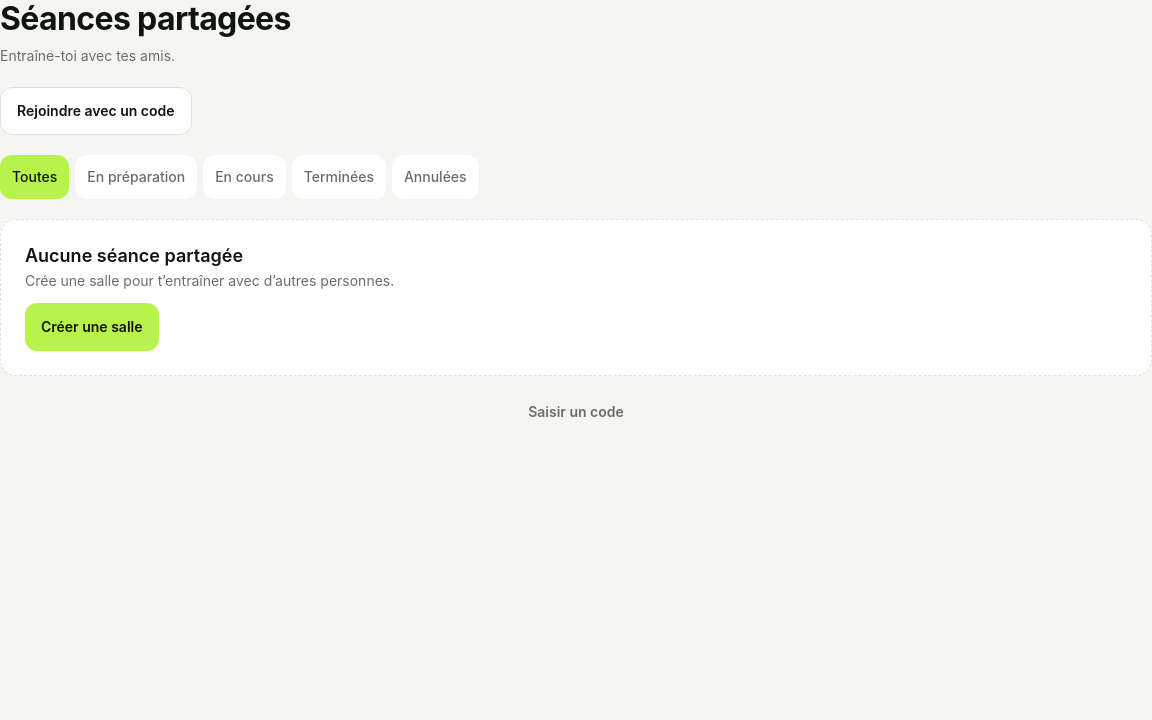
it: SharedWorkoutsPage › accepte le collage d’un code formaté
The width and height of the screenshot is (1152, 720).
Click the button "Rejoindre avec un code" at point(96, 111), box [0,87,192,135]
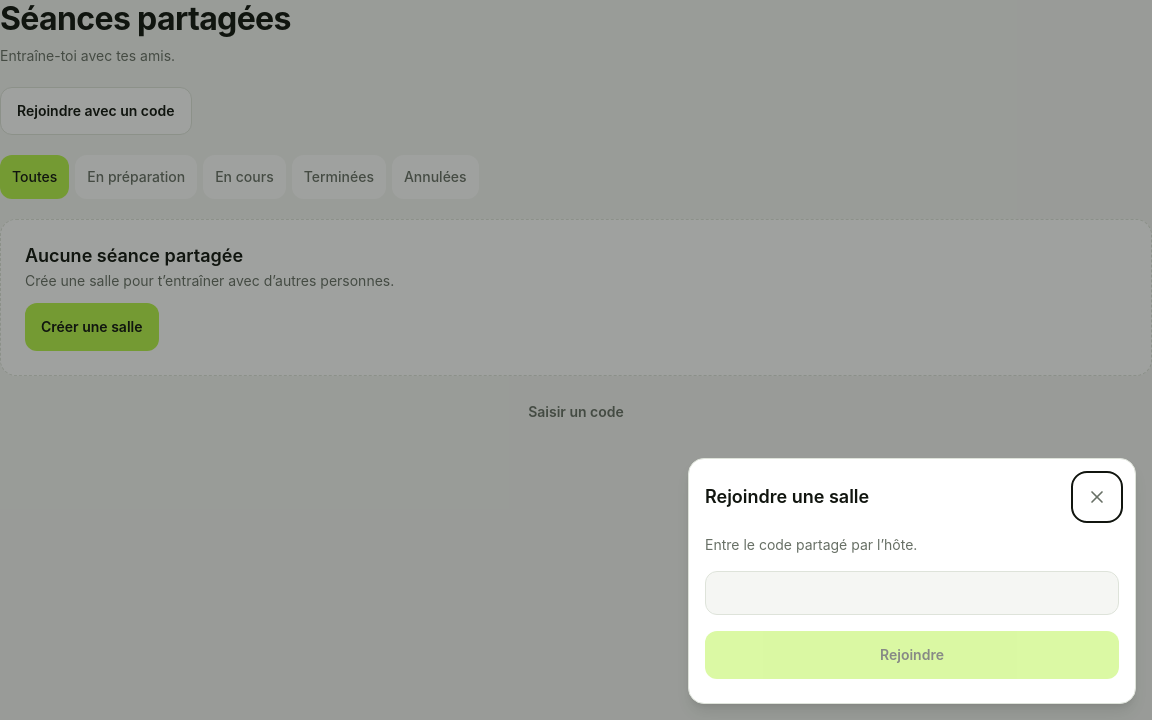
Click the field named "code d’accès" at point(912, 593), box [705,571,1119,615]
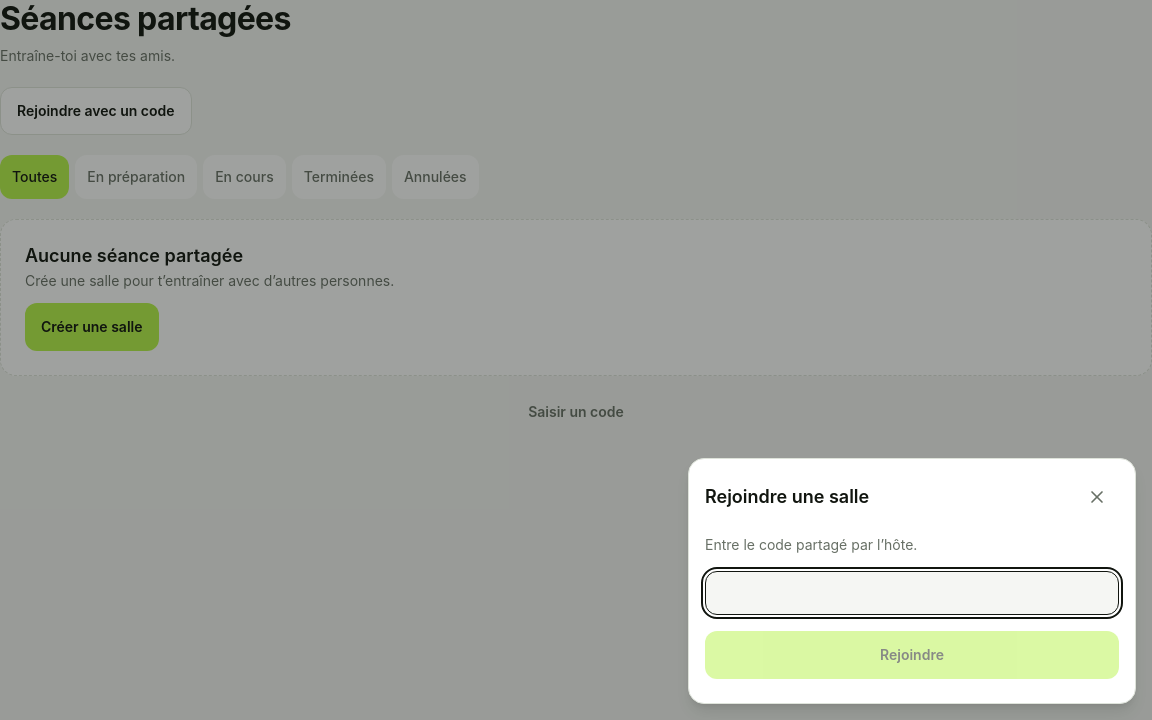
Type keys "K7M-4PX"
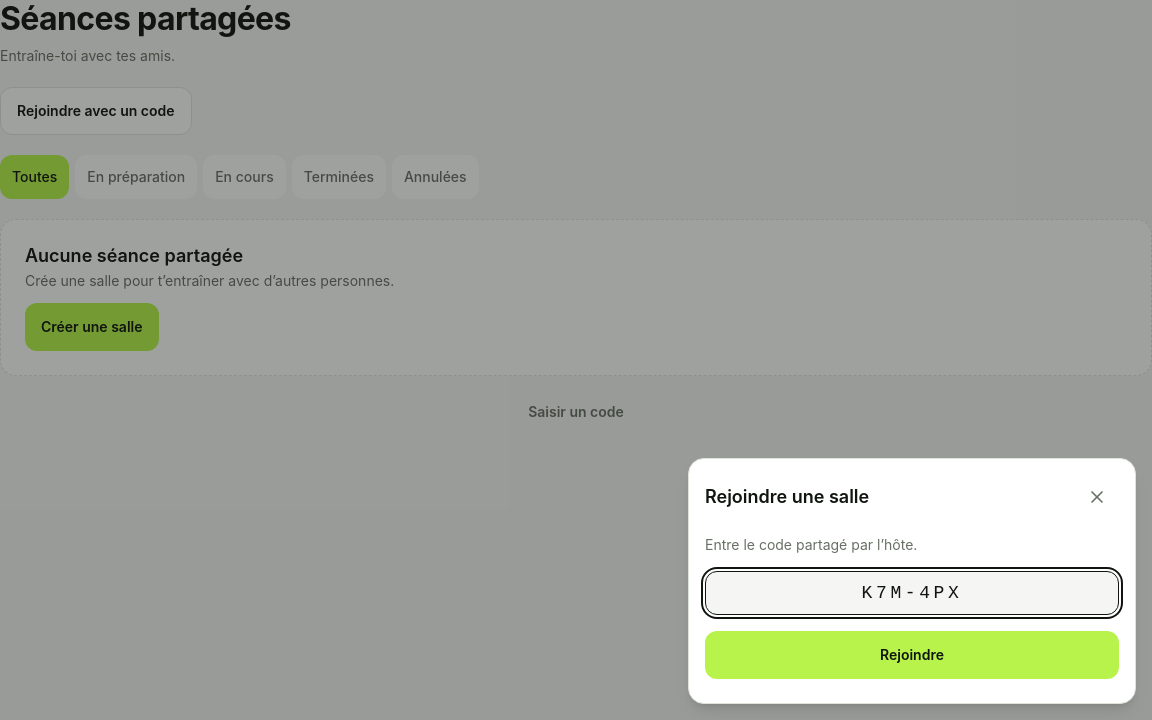
expect the field named "code d’accès" holds "K7M-4PX": met, box [705,571,1119,615]
